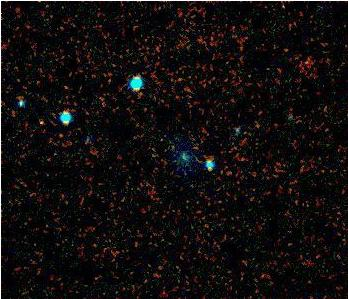star: (22, 107, 52, 137)
